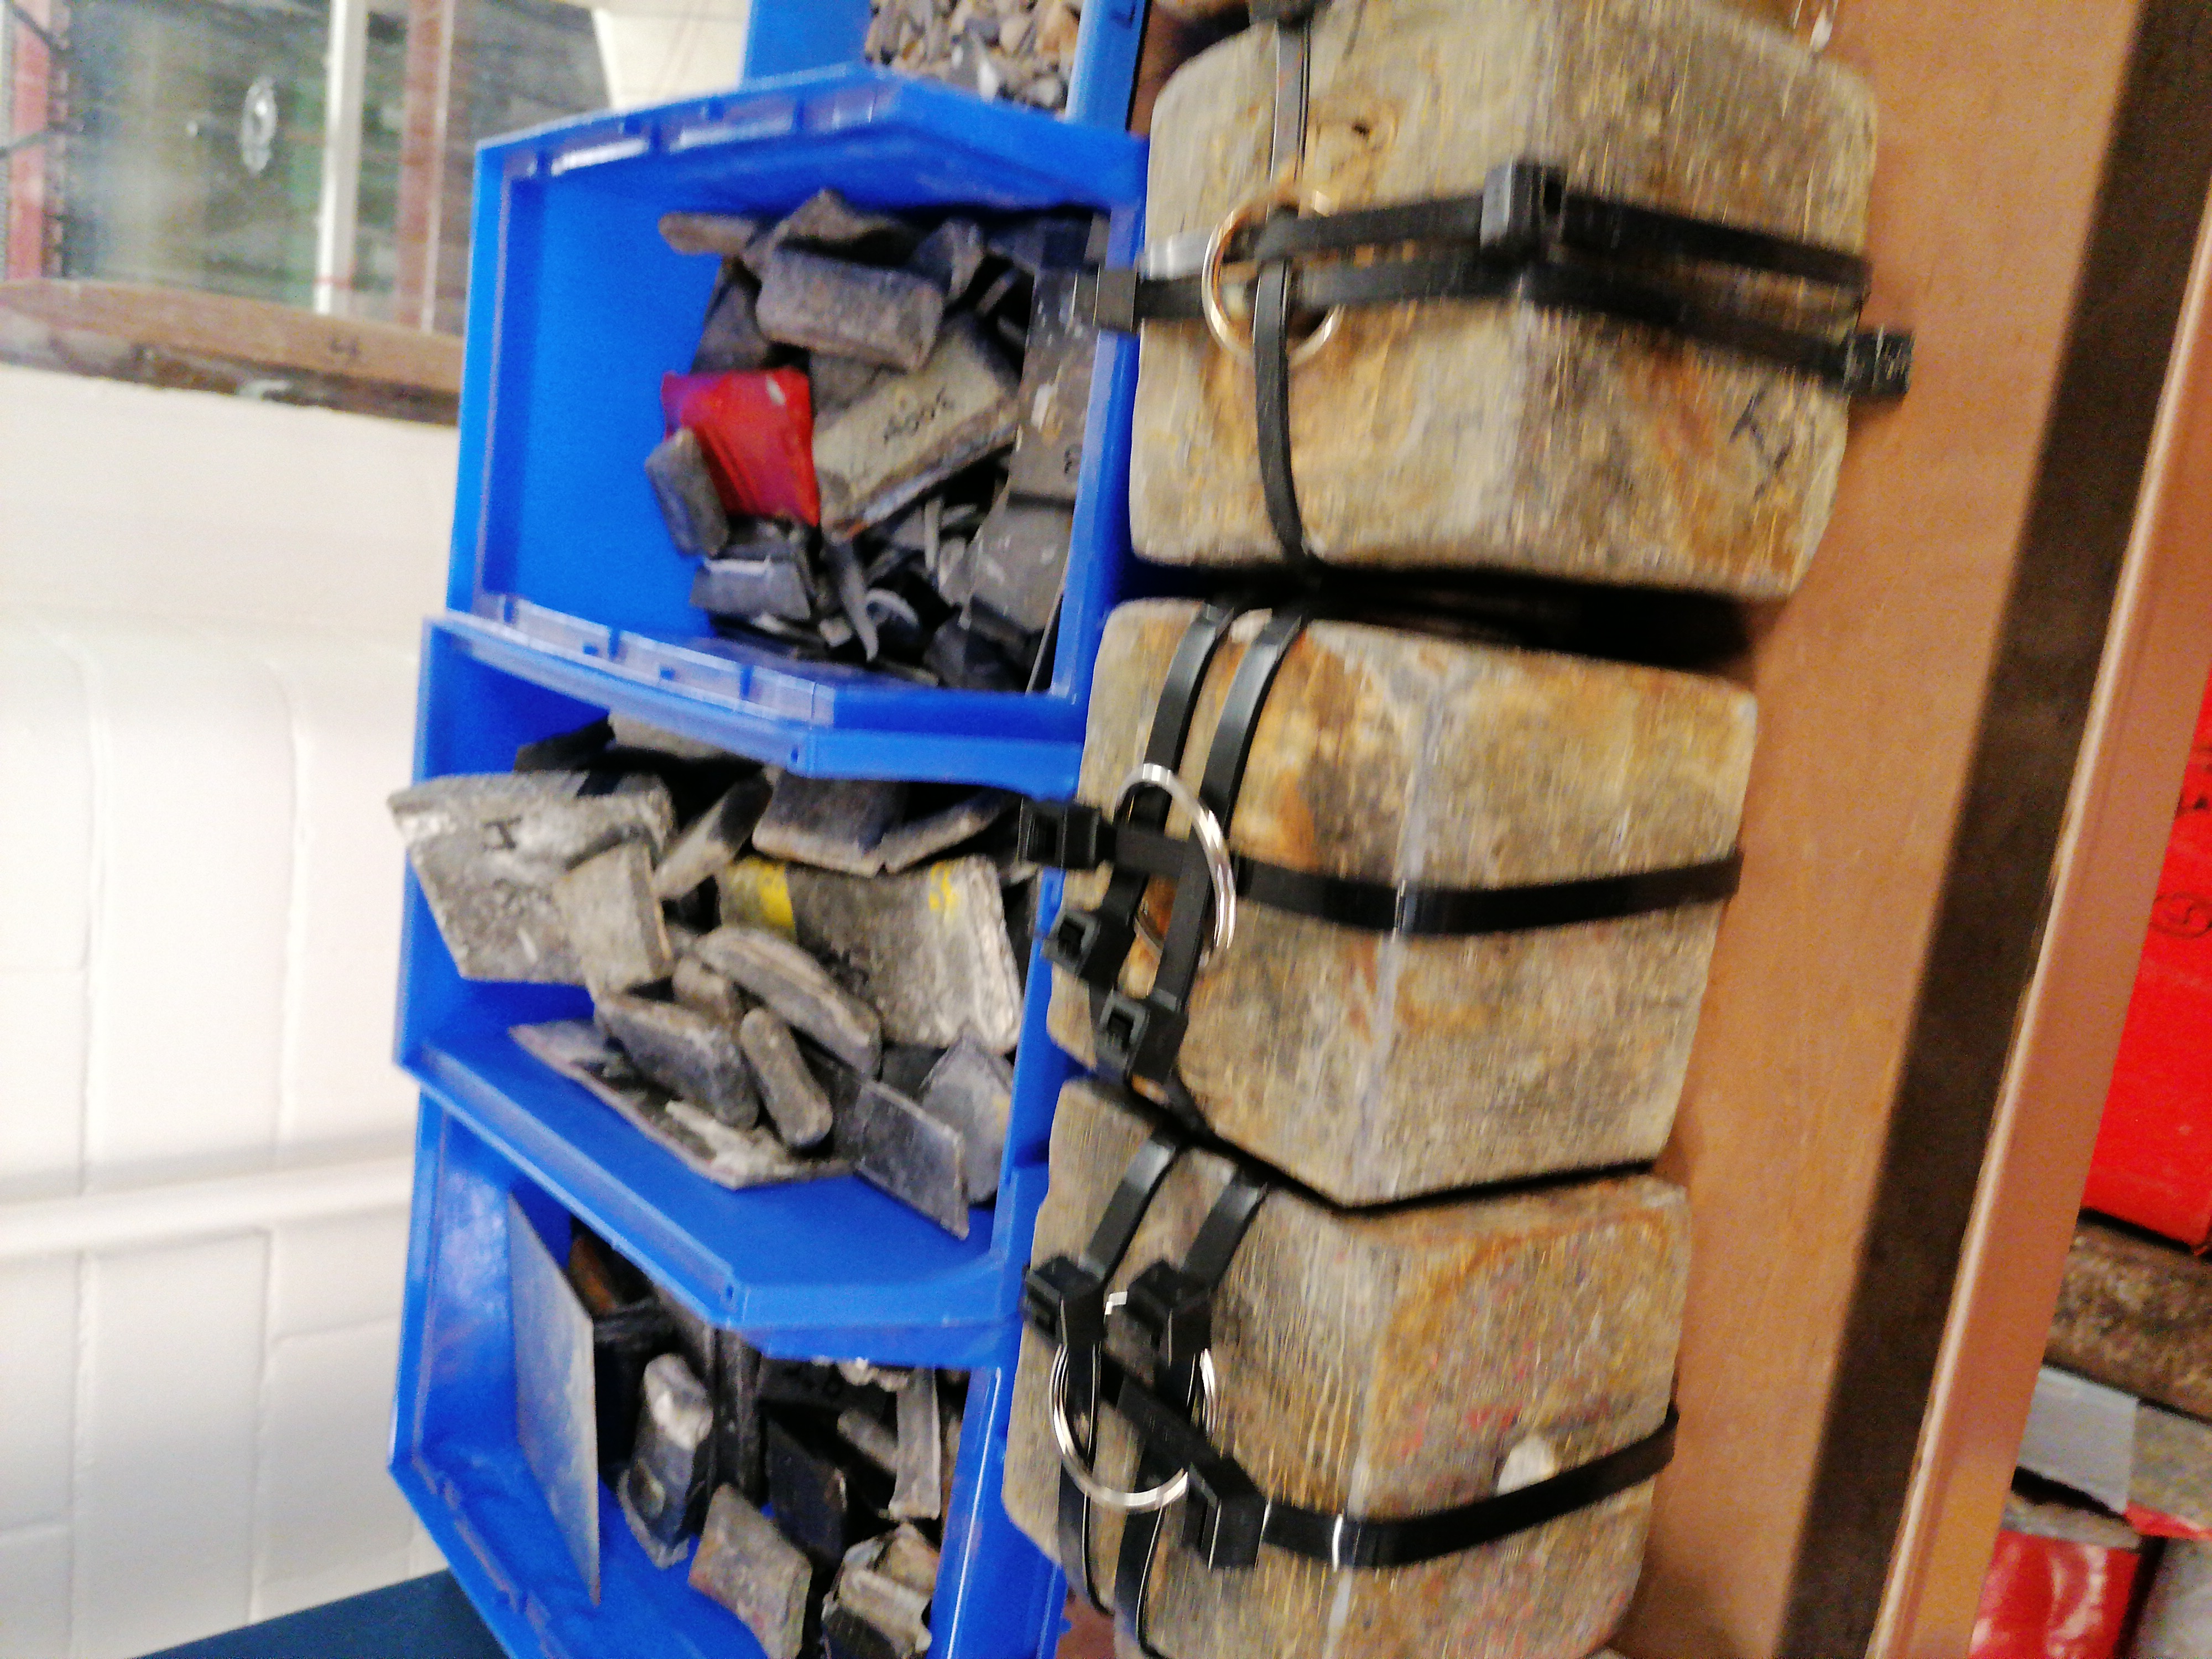lead_block: (1148, 10, 1921, 620), (1042, 592, 1763, 1213), (996, 1080, 1703, 1659)
